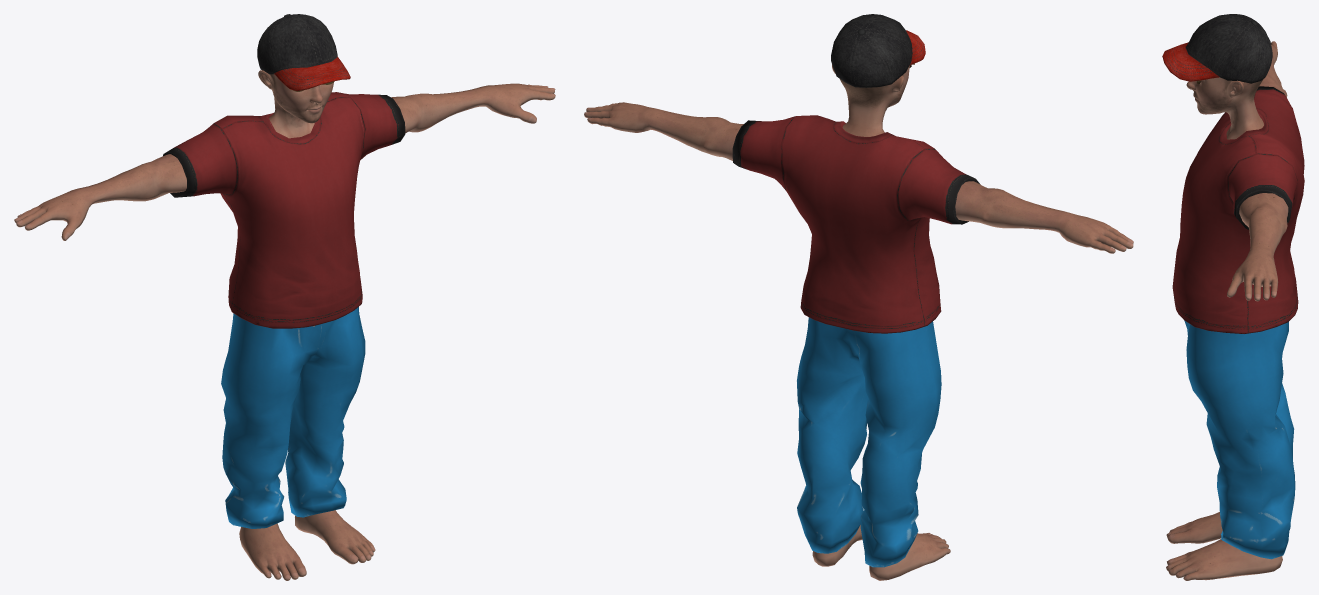
The model's file is young.obj.
The picture shows the model from 3 angles, left to right: view 1: azimuth 30°, elevation 25°; view 2: azimuth 150°, elevation 25°; view 3: azimuth 270°, elevation 25°; orthographic projection.
Parts seen in each view (by area): view 1: Tops, Bottoms, Body, Hats; view 2: Tops, Bottoms, Body, Hats; view 3: Tops, Bottoms, Body, Hats.
Boxes of the visible parts, left/top/right/bottom form: Tops: left=163, top=92, right=405, bottom=328; Bottoms: left=221, top=307, right=365, bottom=528; Body: left=14, top=70, right=555, bottom=580; Hats: left=257, top=14, right=350, bottom=91; Tops: left=732, top=115, right=980, bottom=333; Bottoms: left=797, top=317, right=941, bottom=567; Body: left=584, top=64, right=1133, bottom=580; Hats: left=831, top=14, right=925, bottom=87; Tops: left=1172, top=86, right=1304, bottom=333; Bottoms: left=1184, top=320, right=1295, bottom=559; Body: left=1166, top=41, right=1288, bottom=580; Hats: left=1162, top=14, right=1272, bottom=83.
Size of the model in its own units: 158 by 149 by 35.62.
4 materials, 4 textured.
